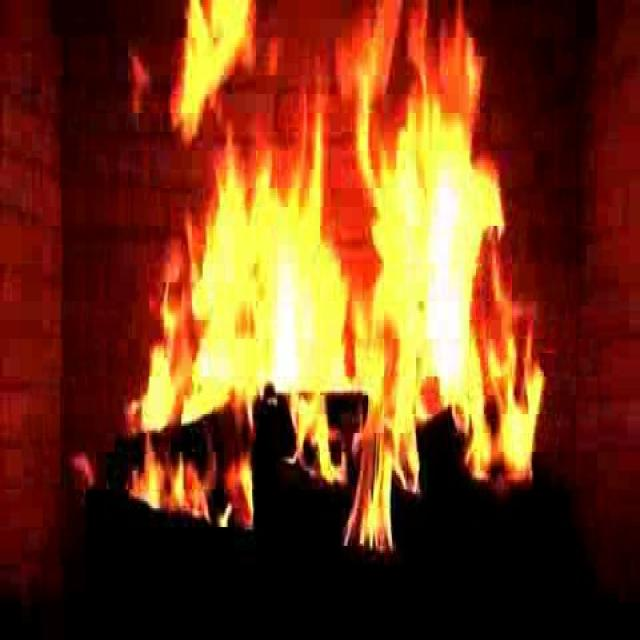fire: (145, 16, 511, 532)
